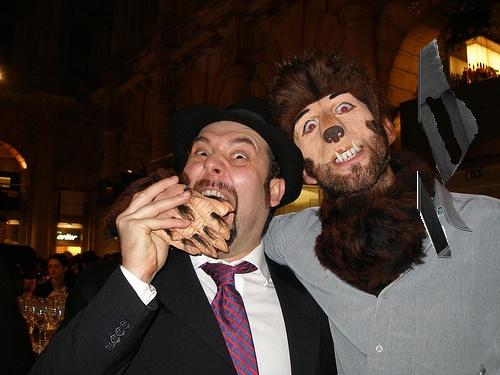tampered: (418, 39, 478, 258)
